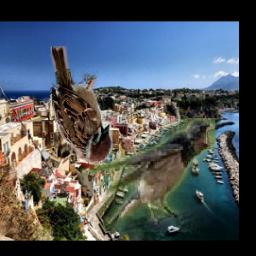Sparrow: (50, 47, 112, 164)
Swallow: (79, 119, 214, 233)
